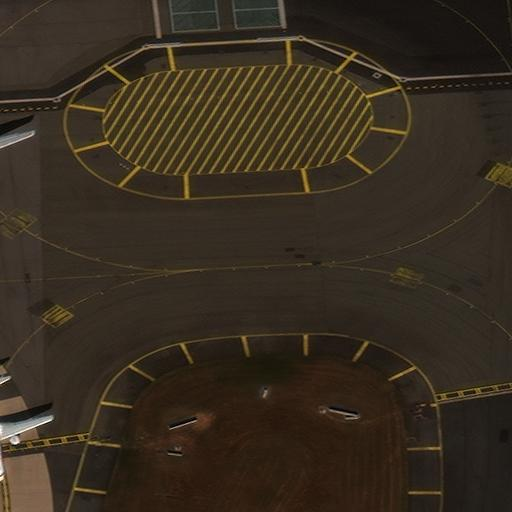Medium Civil Transport: (0, 385, 53, 481)
